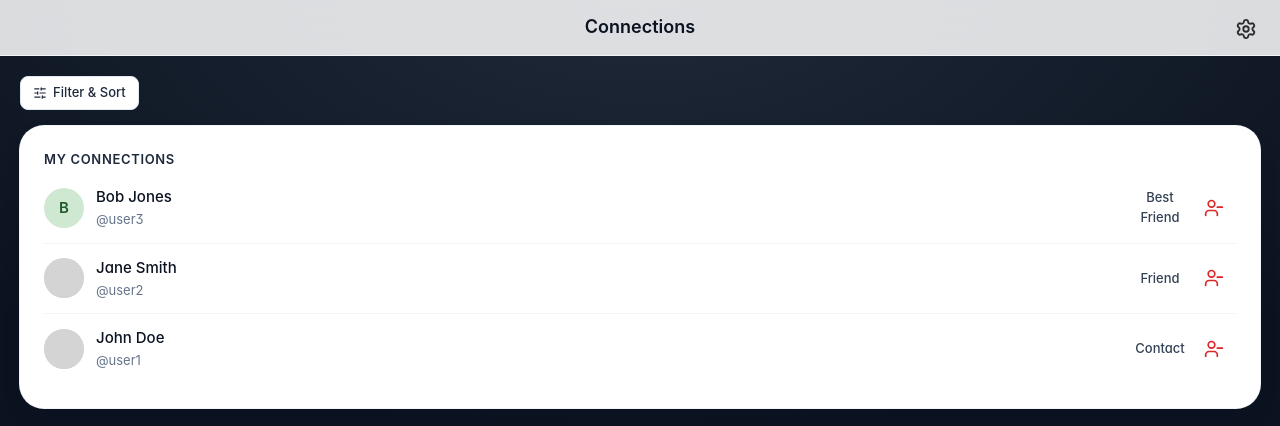
Scenario: ConnectionsView › removes the connection from the list after removal
Expected: the text "John Doe" is shown, [96,328,164,347]
Click the button named "remove connection with user1" at x=1214, y=349, box [1192,327,1236,371]
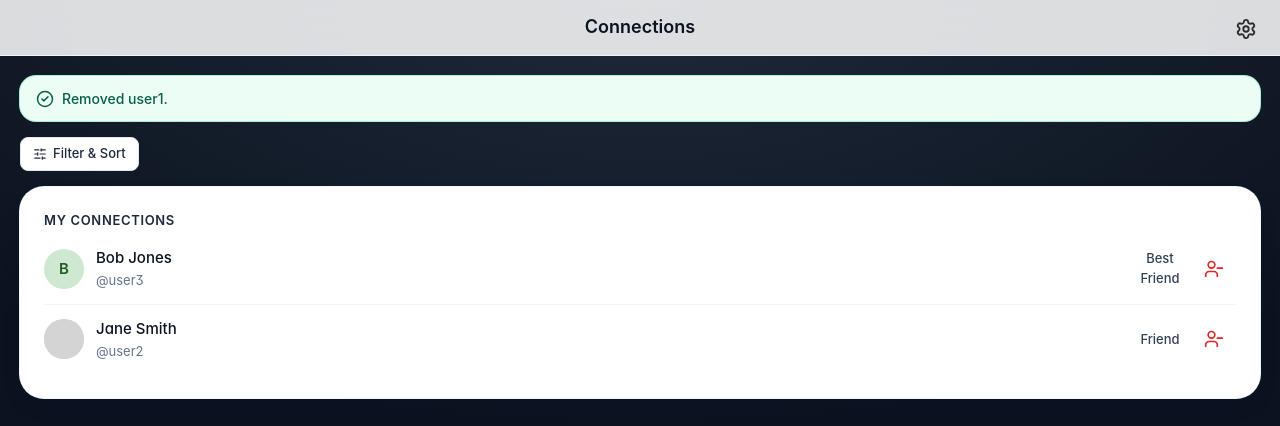
Result: the link "John Doe" is gone
